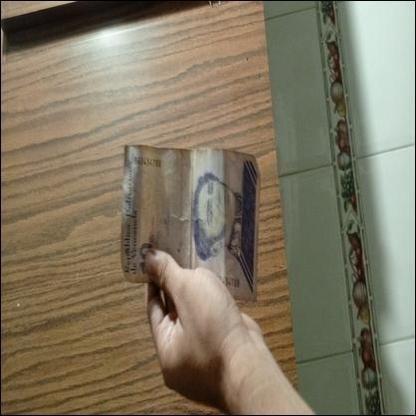ten-front-vef: (118, 144, 260, 302)
